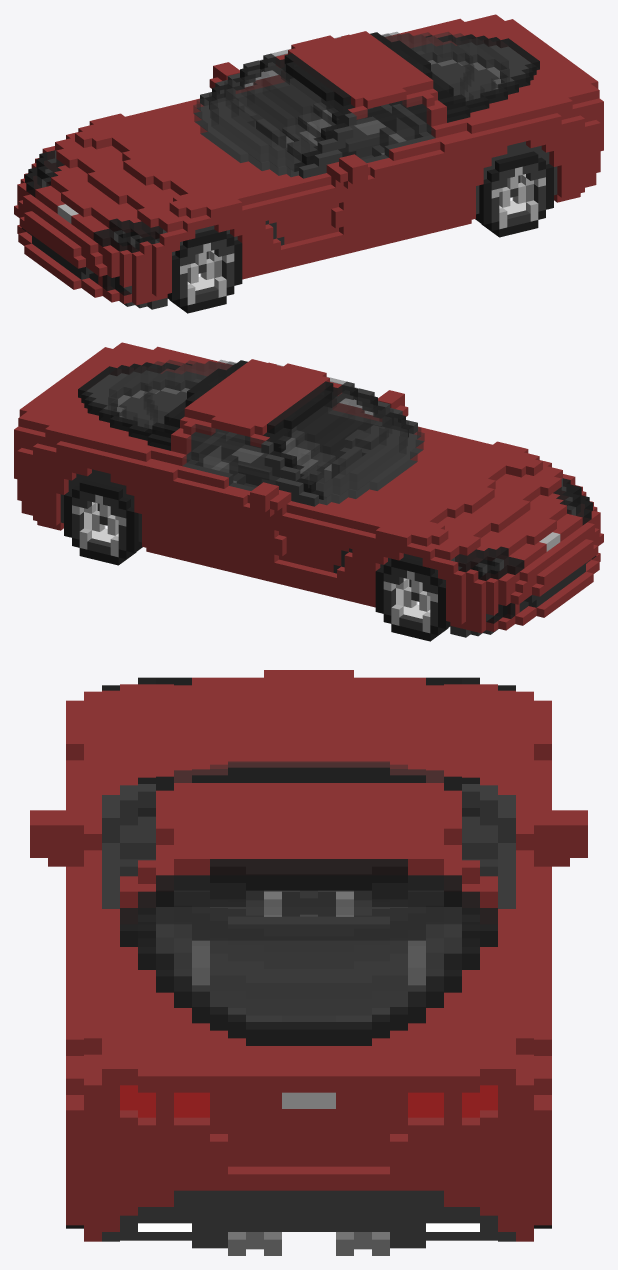
The model's file is CorvetteC6.glb.
3 renders of one model, top to bottom at view 1: azimuth 30°, elevation 25°; view 2: azimuth 150°, elevation 25°; view 3: azimuth 270°, elevation 25°, orthographic. The views are drawn at different scales.
Visible parts, largest first — view 1: Object_4, Object_5, Object_6, Object_3, Object_12, Object_13, Object_9, Object_7, Object_8; view 2: Object_4, Object_5, Object_6, Object_3, Object_12, Object_13, Object_9, Object_7, Object_8; view 3: Object_4, Object_5, Object_6, Object_3, Object_9, Object_11, Object_13, Object_10.
Boxes of the visible parts, <box> form: Object_4: <box>14,14,603,305</box>; Object_5: <box>119,42,557,309</box>; Object_6: <box>193,32,530,176</box>; Object_3: <box>21,32,539,295</box>; Object_12: <box>167,151,553,313</box>; Object_13: <box>57,166,545,305</box>; Object_9: <box>286,59,500,155</box>; Object_7: <box>27,220,284,284</box>; Object_8: <box>187,175,533,290</box>; Object_4: <box>14,342,603,633</box>; Object_5: <box>60,370,498,637</box>; Object_6: <box>87,360,424,504</box>; Object_3: <box>78,360,596,623</box>; Object_12: <box>64,479,450,641</box>; Object_13: <box>72,494,560,633</box>; Object_9: <box>117,387,331,483</box>; Object_7: <box>333,548,590,612</box>; Object_8: <box>84,503,430,618</box>; Object_4: <box>30,670,587,1241</box>; Object_5: <box>102,784,515,1248</box>; Object_6: <box>102,761,515,1021</box>; Object_3: <box>102,677,515,1045</box>; Object_9: <box>192,890,425,1255</box>; Object_11: <box>120,1085,497,1117</box>; Object_13: <box>264,891,353,1108</box>; Object_10: <box>138,1223,479,1231</box>.
Bounding box in the file's own units: 65 × 18 × 31.
